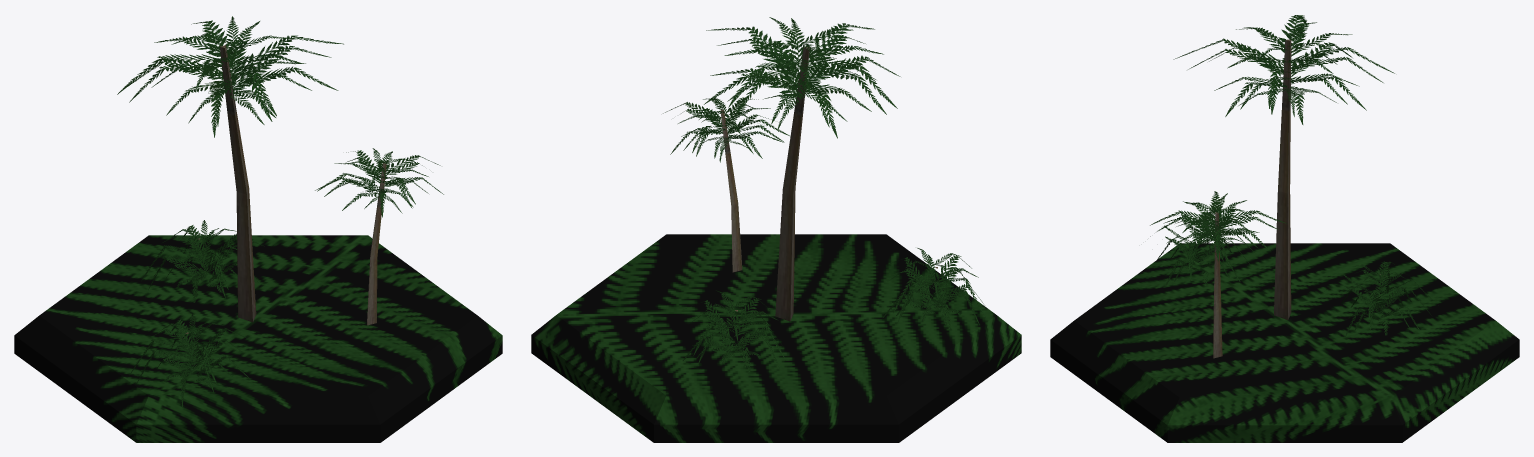
File: Starting Island.fbx
3 views of the same model, side by side, from view 1: azimuth 30°, elevation 25°; view 2: azimuth 150°, elevation 25°; view 3: azimuth 270°, elevation 25° (orthographic). The views are drawn at different scales.
Parts seen in each view (by area): view 1: TexturesCom_Branches0030_1_S.009; view 2: TexturesCom_Branches0030_1_S.009; view 3: TexturesCom_Branches0030_1_S.009.
Part boxes in pixels (x1,y1,x2,y2): TexturesCom_Branches0030_1_S.009: (14, 16, 502, 442); TexturesCom_Branches0030_1_S.009: (531, 17, 1021, 442); TexturesCom_Branches0030_1_S.009: (1050, 15, 1519, 442).
Size of the model in its own units: 173 by 146 by 200.
Materials: 3 (3 with a texture image).
